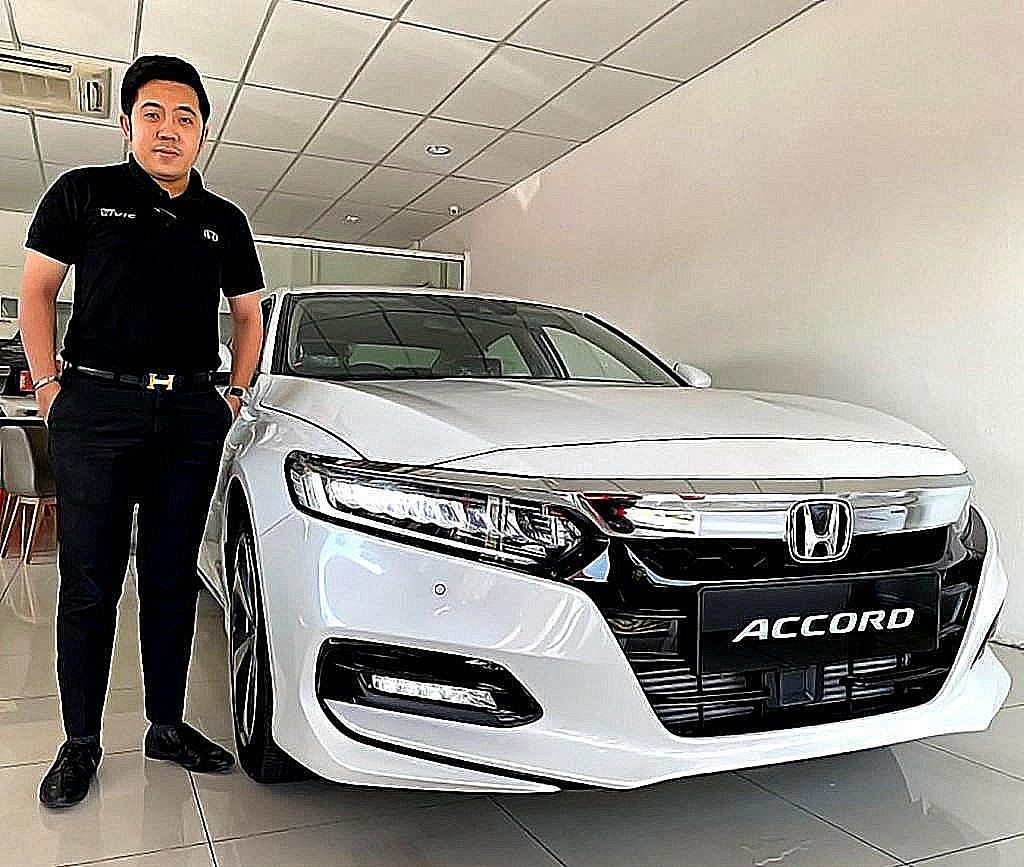Car hood: (266, 372, 972, 492)
Fender - -F-R-: (200, 367, 361, 601)
Front bumper: (246, 510, 1014, 797)
Headlight - -R-: (284, 444, 608, 582)
Side mirror - -L-: (669, 356, 725, 388)
